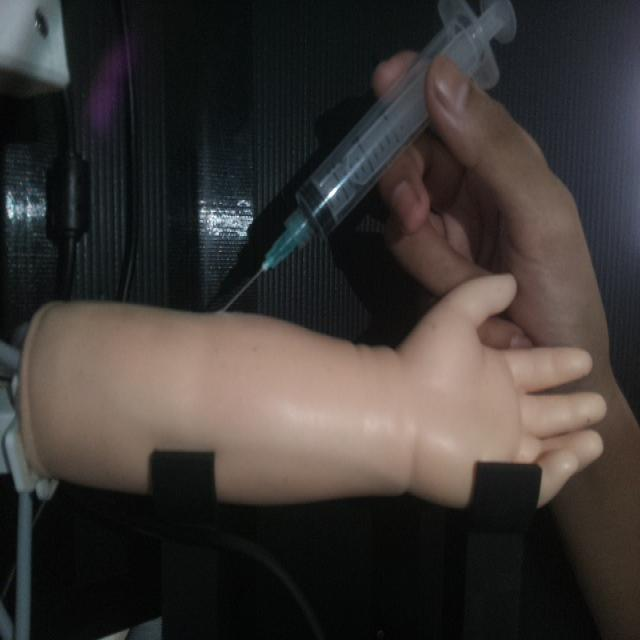Outside: (213, 0, 522, 315)
